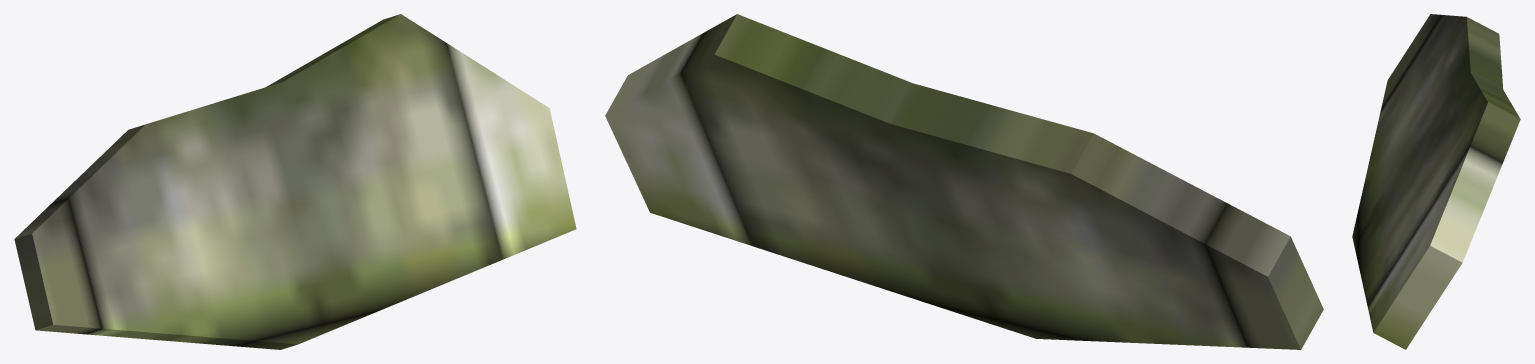
File: China - Aviation - Cargo Plane - Damage State 6 - NVCargoPln_d6.glb
3 renders of one model, left to right at view 1: azimuth 30°, elevation 25°; view 2: azimuth 150°, elevation 25°; view 3: azimuth 270°, elevation 25°, orthographic. The views are drawn at different scales.
Visible parts, largest first — view 1: NVCARGOPLN_D6; view 2: NVCARGOPLN_D6; view 3: NVCARGOPLN_D6.
Boxes of the visible parts, x1,y1,x2,y2 form: NVCARGOPLN_D6: (14, 14, 576, 349); NVCARGOPLN_D6: (605, 14, 1323, 349); NVCARGOPLN_D6: (1352, 14, 1520, 349).
Bounding box in the file's own units: 10.96 × 5.07 × 3.36.
1 material, 1 textured.
